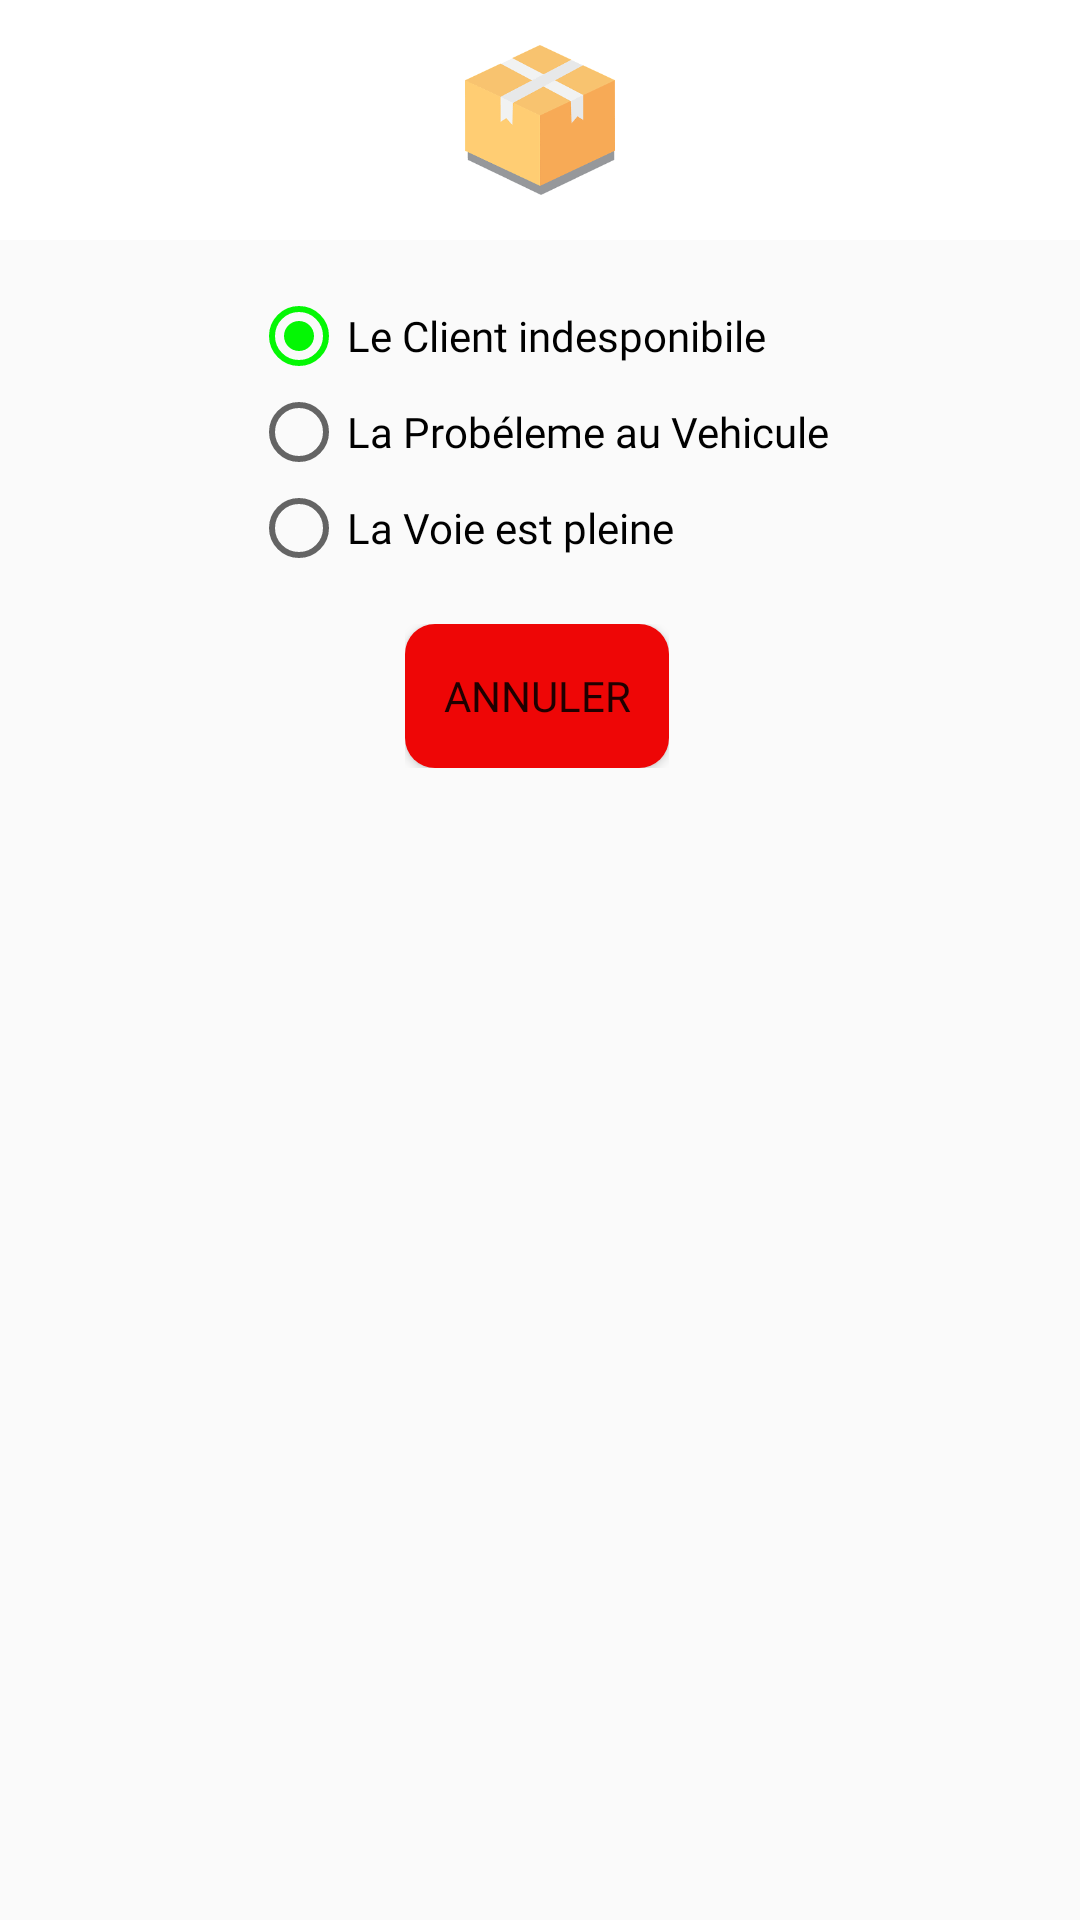

Point at icon controls on the screen. Image size 1080 × 1920, points as (x,y).
colis: (540,120)
